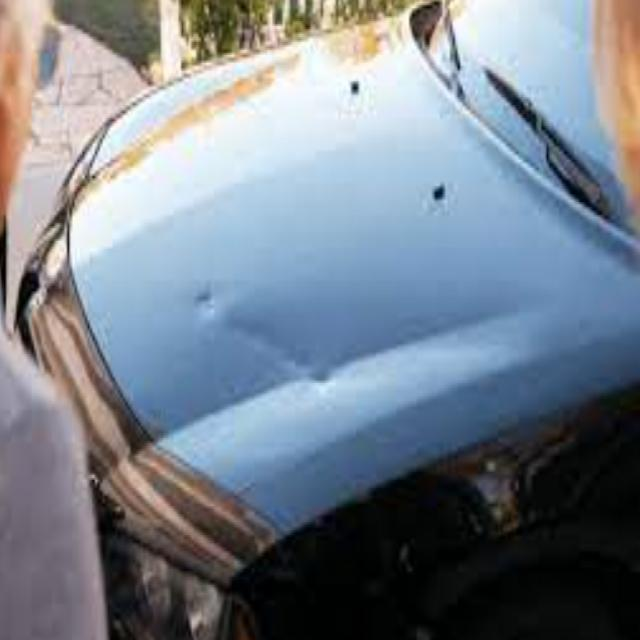dents: (193, 264, 226, 342), (242, 301, 276, 360), (288, 326, 316, 387)
